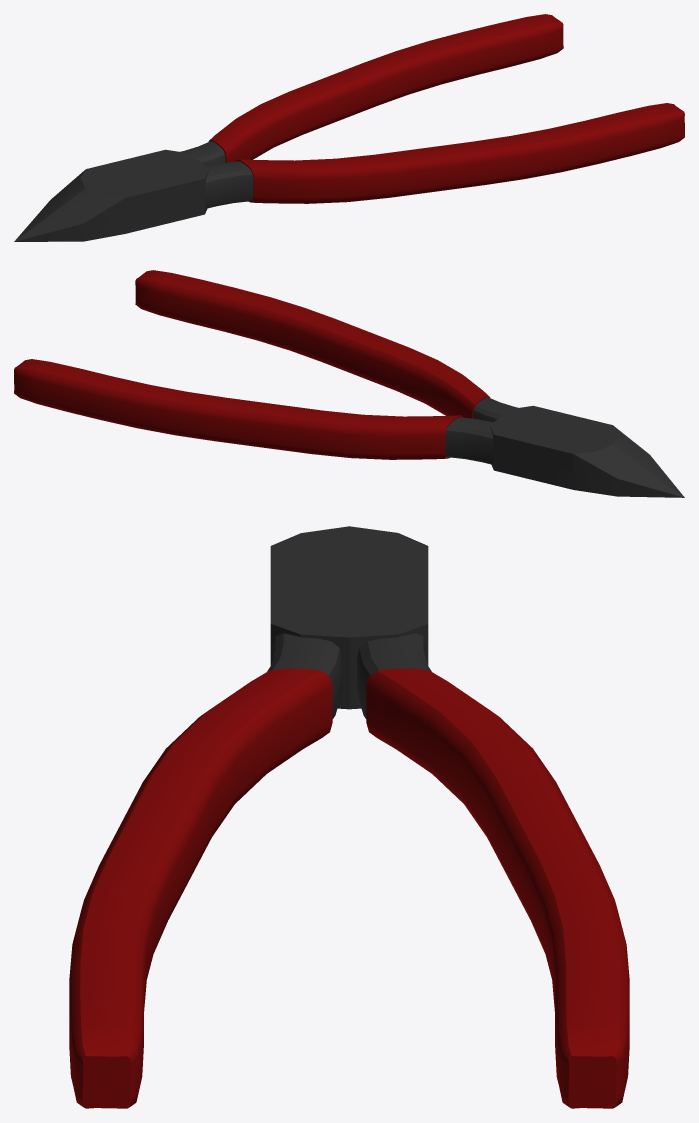
File: Nipper_prop.FBX
3 renders of one model, top to bottom at view 1: azimuth 30°, elevation 25°; view 2: azimuth 150°, elevation 25°; view 3: azimuth 270°, elevation 25°, orthographic. The views are drawn at different scales.
Parts seen in each view (by area): view 1: Nipper_Left, Nipper_Right; view 2: Nipper_Right, Nipper_Left; view 3: Nipper_Right, Nipper_Left.
Part boxes in pixels (<box>): Nipper_Left: <box>14,103,684,241</box>; Nipper_Right: <box>14,14,563,241</box>; Nipper_Right: <box>14,359,684,497</box>; Nipper_Left: <box>135,270,684,497</box>; Nipper_Right: <box>270,526,629,1108</box>; Nipper_Left: <box>69,528,417,1108</box>.
Bounding box in the file's own units: 24.85 × 1.41 × 9.98.
